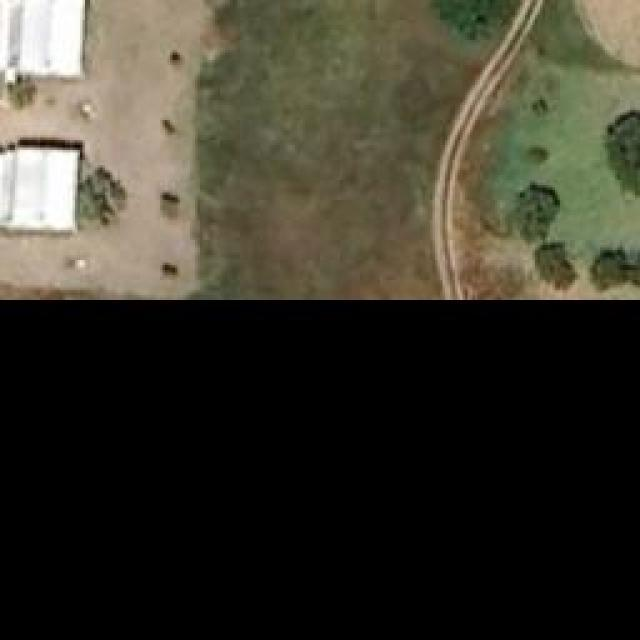Tree: (435, 0, 518, 38), (605, 110, 640, 198), (510, 180, 560, 240), (73, 170, 123, 223), (590, 243, 640, 293), (535, 240, 575, 288), (525, 138, 549, 166), (528, 93, 552, 118)
